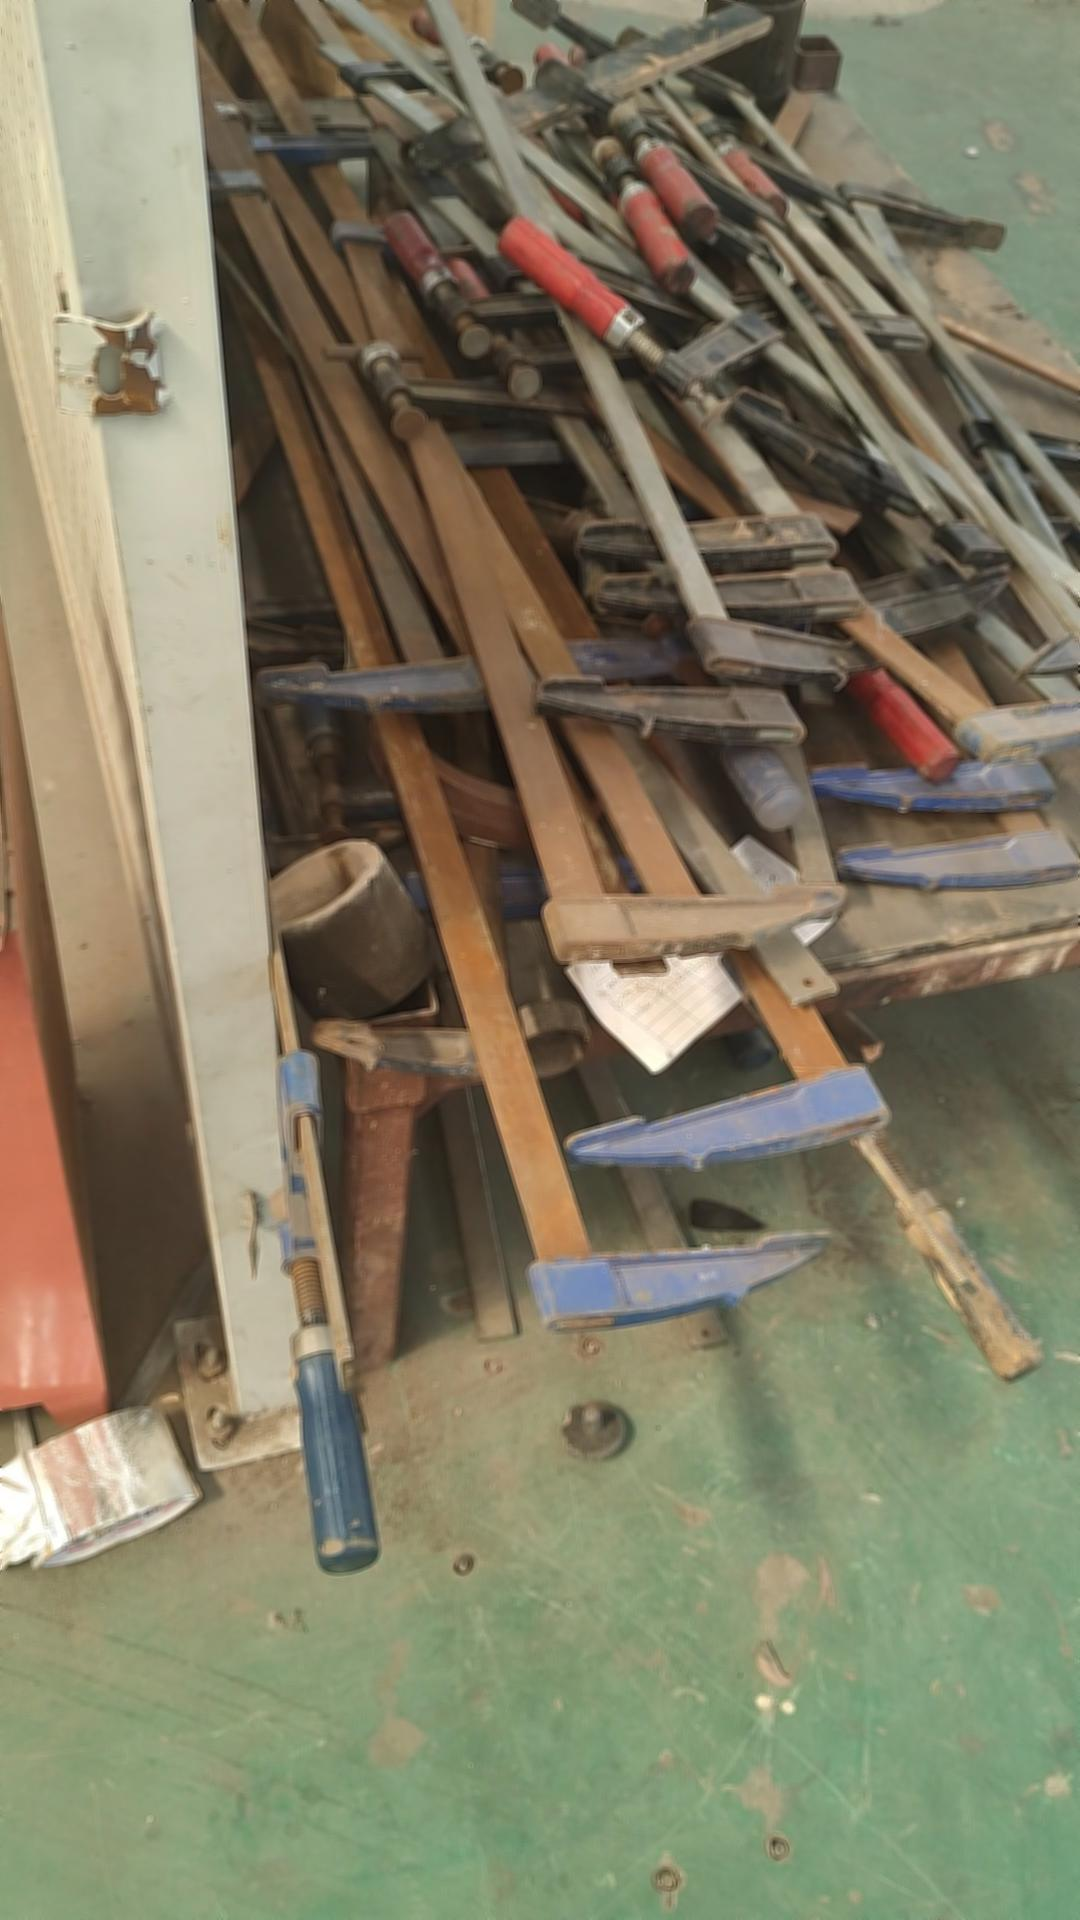pouring hole: (266, 840, 384, 936), (707, 3, 812, 18)
